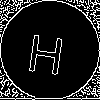H: (25, 25, 68, 75)
